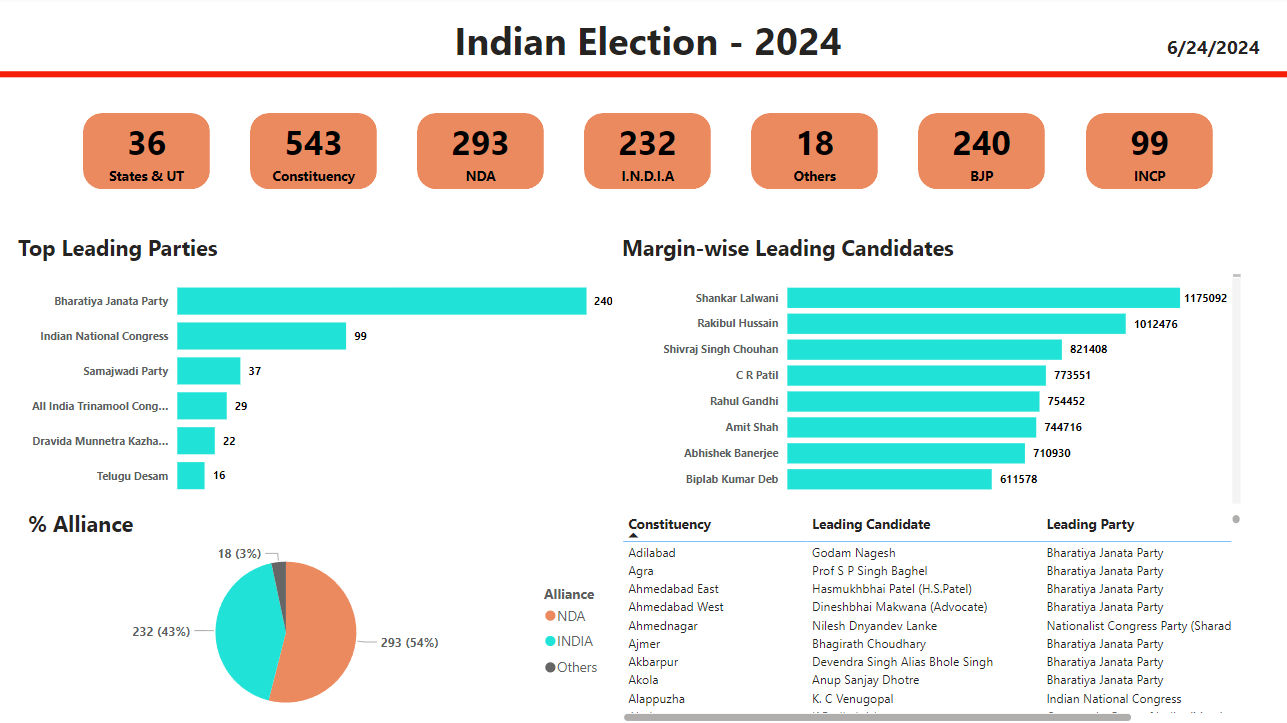

What the dashboard file says about the page in this screenshot:
{"tool":"powerbi","page":{"name":"Duplicate of Page 1","canvas":[1280,720],"ordinal":2},"visuals":[{"type":"shape","box":[83.3,114.6,125.4,75.2],"z":0,"group":"g1"},{"type":"clusteredBarChart","title":"Top Leading Parties","fields":{"Category":["Election Result  -2024.Leading Party"],"Y":["Election Result  -2024.Leading Party"]},"box":[13.4,232.8,596.4,272.2],"z":1000},{"type":"clusteredBarChart","title":"Margin-wise Leading Candidates","fields":{"Category":["Election Result  -2024.Leading Candidate"],"Y":["Election Result  -2024.Margin Votes"]},"box":[609.9,232.8,619.7,272.2],"z":2000},{"type":"pieChart","title":"% Alliance","fields":{"Category":["Election Result  -2024.Alliance"],"Y":["Election Result  -2024.Alliance"]},"box":[23.3,505.1,586.6,214.9],"z":3000},{"type":"tableEx","fields":{"Values":["Election Result  -2024.Constituency Name","Election Result  -2024.Leading Candidate","Election Result  -2024.Leading Party"]},"box":[609.9,505.1,619.7,214.9],"z":4000},{"type":"textbox","box":[0,11.6,1279.7,60.9],"z":5000},{"type":"card","fields":{"Values":["Election Result  -2024.Last Refresh date"]},"box":[1134.6,28.7,124.5,43.9],"z":6000},{"type":"shape","box":[0,70,1280,12.4],"z":7000},{"type":"card","fields":{"Values":["Election Result  -2024.State"]},"box":[1072,114.6,125.4,75.2],"z":8000,"group":"g1"},{"type":"card","fields":{"Values":["Election Result  -2024.State"]},"box":[83.3,114.6,125.4,75.2],"z":9000,"group":"g1"},{"type":"shape","box":[1072,114.6,125.4,75.2],"z":10000,"group":"g1"},{"type":"shape","box":[907.2,114.6,125.4,75.2],"z":11000,"group":"g1"},{"type":"shape","box":[248.1,114.6,125.4,75.2],"z":12000,"group":"g1"},{"type":"shape","box":[742.4,114.6,125.4,75.2],"z":13000,"group":"g1"},{"type":"shape","box":[577.6,114.6,125.4,75.2],"z":14000,"group":"g1"},{"type":"shape","box":[412.9,114.6,125.4,75.2],"z":15000,"group":"g1"},{"type":"card","fields":{"Values":["Election Result  -2024.Leading Party"]},"box":[907.2,114.6,125.4,75.2],"z":16000,"group":"g1"},{"type":"card","fields":{"Values":["Election Result  -2024.Alliance"]},"box":[412.9,114.6,125.4,75.2],"z":17000,"group":"g1"},{"type":"card","fields":{"Values":["Election Result  -2024.Constituency Name"]},"box":[248.1,114.6,125.4,75.2],"z":18000,"group":"g1"},{"type":"card","fields":{"Values":["Election Result  -2024.Alliance"]},"box":[577.6,114.6,125.4,75.2],"z":19000,"group":"g1"},{"type":"card","fields":{"Values":["Election Result  -2024.Alliance"]},"box":[742.4,114.6,125.4,75.2],"z":20000,"group":"g1"},{"type":"card","fields":{"Values":["Election Result  -2024.Leading Party"]},"box":[1072,114.6,125.4,75.2],"z":21000,"group":"g1"},{"type":"group","id":"g1","title":"KPI's","box":[83.3,114.6,1114,75.2],"z":21001}]}

Visuals, with their boxes in screenshot pixels (x1, y1, x2, y2), scaled from the page's 1280x720 canvas onto the 1287x723 screenshot:
shape: 84/115/210/191
"Top Leading Parties" clusteredBarChart: 13/234/613/507
"Margin-wise Leading Candidates" clusteredBarChart: 613/234/1236/507
"% Alliance" pieChart: 23/507/613/722
tableEx - Election Result  -2024.Constituency Name x Election Result  -2024.Leading Candidate: 613/507/1236/722
textbox: 0/12/1286/73
card - Election Result  -2024.Last Refresh date: 1141/29/1266/73
shape: 0/70/1286/83
card - Election Result  -2024.State: 1078/115/1204/191
card - Election Result  -2024.State: 84/115/210/191
shape: 1078/115/1204/191
shape: 912/115/1038/191
shape: 249/115/376/191
shape: 746/115/873/191
shape: 581/115/707/191
shape: 415/115/541/191
card - Election Result  -2024.Leading Party: 912/115/1038/191
card - Election Result  -2024.Alliance: 415/115/541/191
card - Election Result  -2024.Constituency Name: 249/115/376/191
card - Election Result  -2024.Alliance: 581/115/707/191
card - Election Result  -2024.Alliance: 746/115/873/191
card - Election Result  -2024.Leading Party: 1078/115/1204/191
"KPI's" group: 84/115/1204/191
